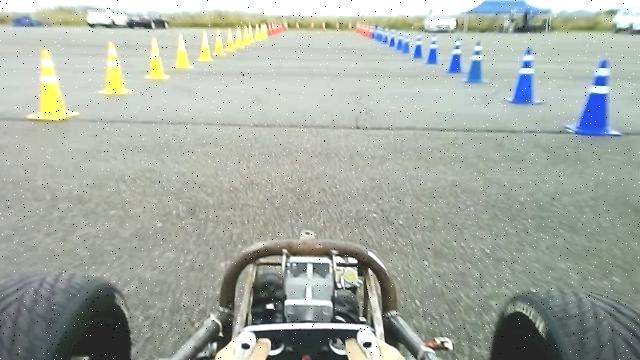blue cone: (565, 58, 622, 136), (503, 46, 546, 106), (464, 41, 491, 84), (444, 36, 463, 73), (426, 34, 440, 64), (413, 33, 424, 58)
yellow cone: (27, 48, 81, 120), (97, 40, 134, 94), (144, 36, 170, 78), (172, 33, 194, 69), (198, 30, 214, 61), (213, 28, 227, 56)
